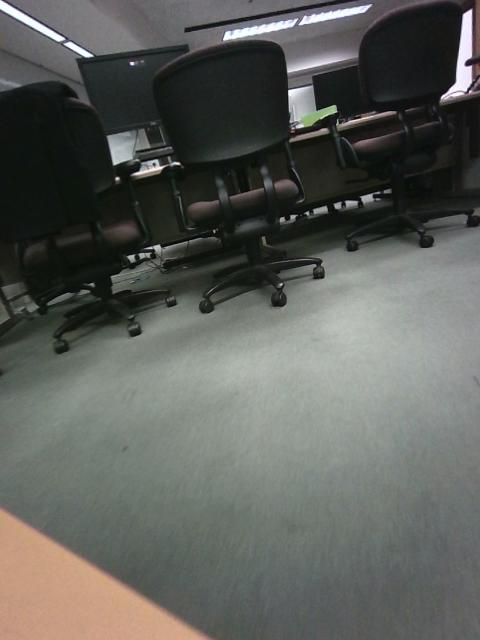block: (244, 358, 299, 429)
